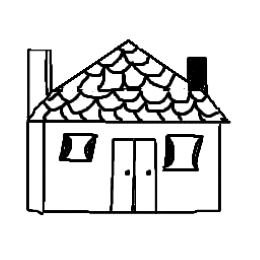chimney: (23, 42, 57, 121), (184, 48, 214, 101)
door: (107, 136, 162, 218)
open_window: (160, 129, 211, 180), (55, 128, 100, 173)
roof: (15, 35, 243, 127)
wall: (17, 119, 226, 220)
